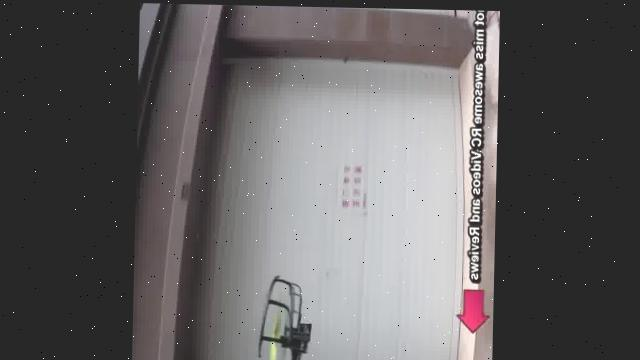drone: (232, 265, 323, 360)
